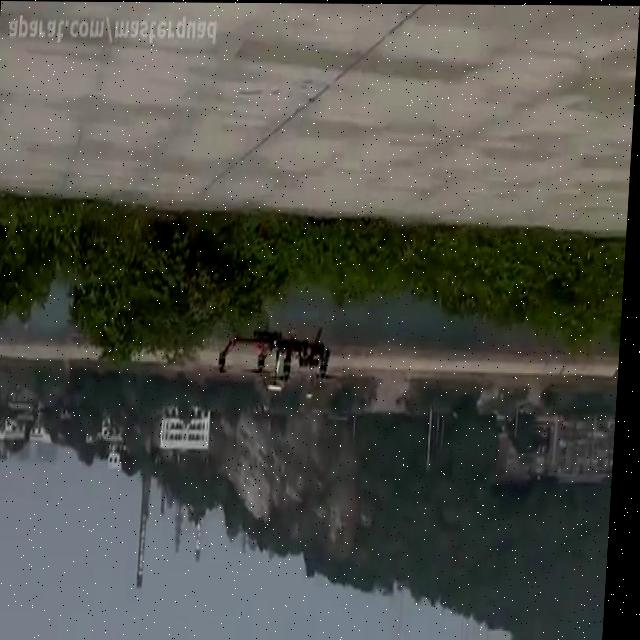drone: (217, 315, 346, 396)
